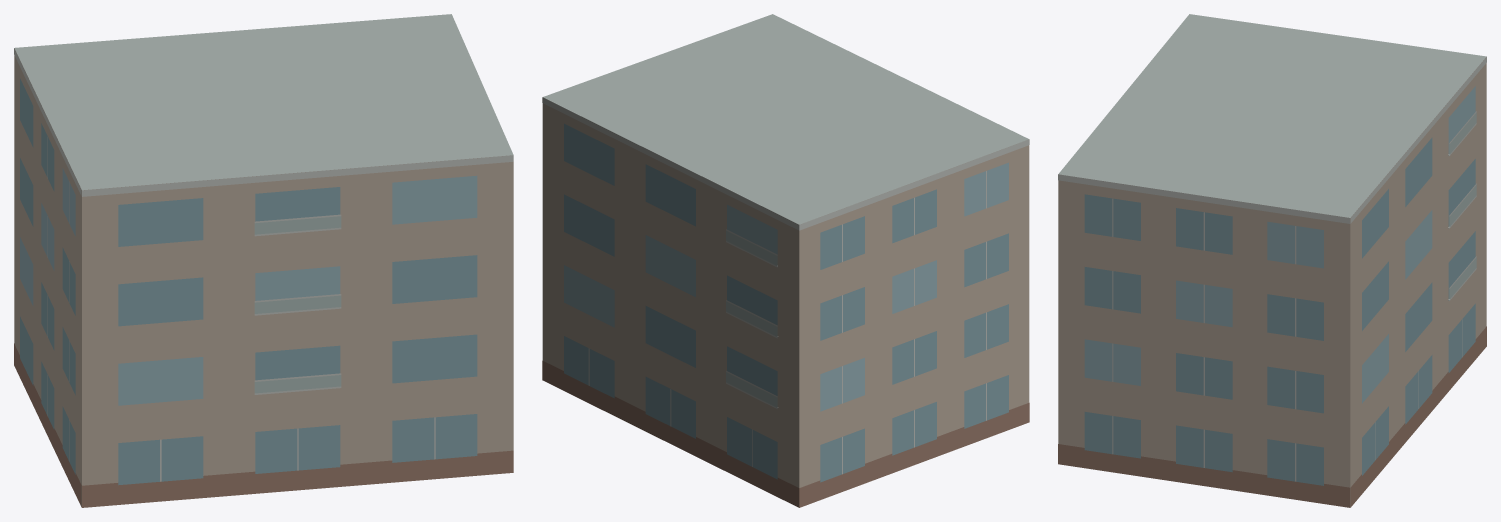
File: survey-upis-32708264.glb
3 views of the same model, side by side, from view 1: azimuth 30°, elevation 25°; view 2: azimuth 150°, elevation 25°; view 3: azimuth 270°, elevation 25° (orthographic). The views are drawn at different scales.
Parts seen in each view (by area): view 1: survey-upis-32708264.tmp; view 2: survey-upis-32708264.tmp; view 3: survey-upis-32708264.tmp.
Boxes of the visible parts, bbox=[...] form: survey-upis-32708264.tmp: bbox=[14, 14, 513, 507]; survey-upis-32708264.tmp: bbox=[542, 14, 1029, 507]; survey-upis-32708264.tmp: bbox=[1058, 14, 1486, 507].
Size of the model in its own units: 17.65 by 11.69 by 15.68.
